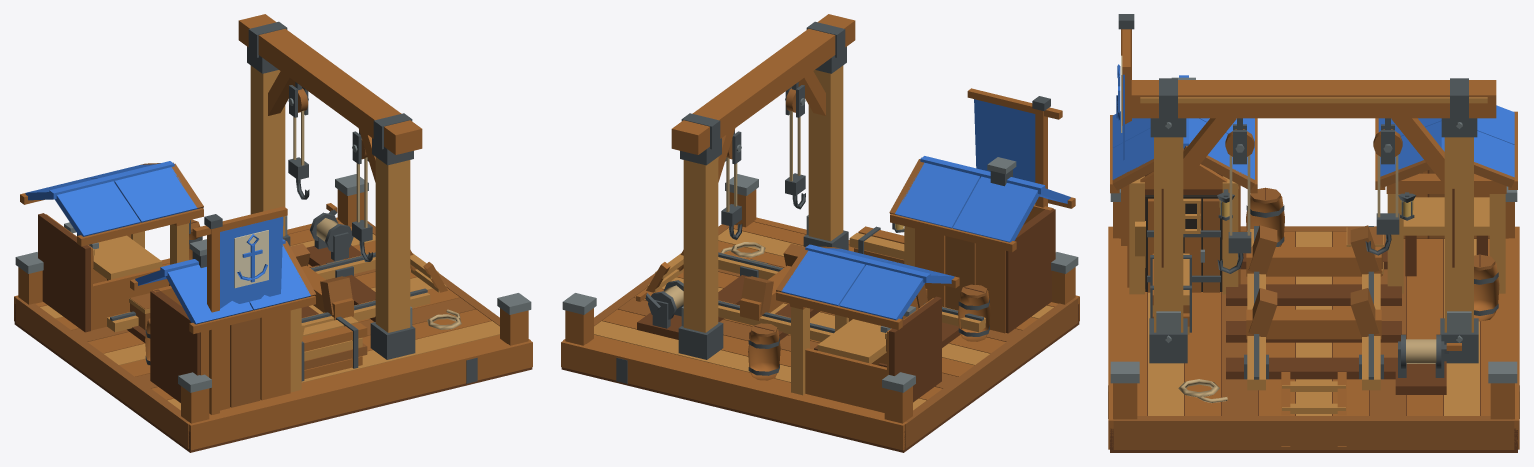
File: repair.glb
3 views of the same model, side by side, from view 1: azimuth 30°, elevation 25°; view 2: azimuth 150°, elevation 25°; view 3: azimuth 270°, elevation 25° (orthographic). The views are drawn at different scales.
Parts seen in each view (by area): view 1: Harbor Repair Station; view 2: Harbor Repair Station; view 3: Harbor Repair Station.
Part boxes in pixels (x1,y1,x2,y2): Harbor Repair Station: (14, 14, 532, 452); Harbor Repair Station: (561, 14, 1079, 452); Harbor Repair Station: (1108, 14, 1519, 452).
Size of the model in its own units: 1.8 by 1.3 by 1.61.
